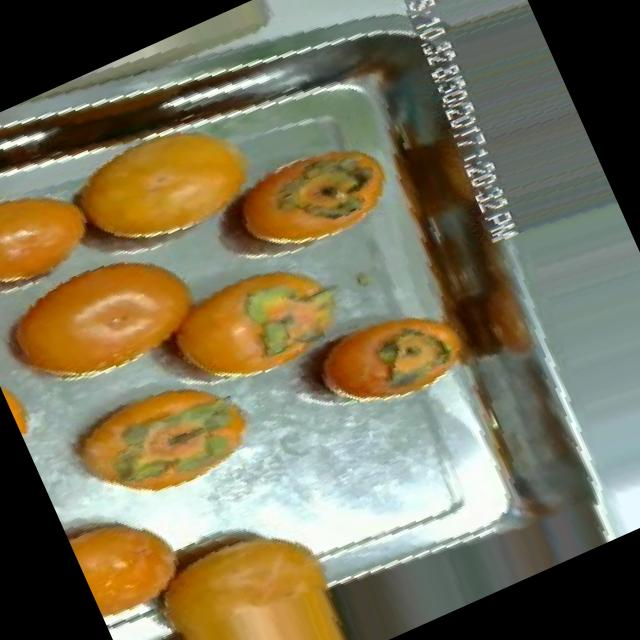Fruit: (40, 338, 278, 530), (198, 107, 412, 284), (286, 273, 480, 442), (58, 474, 206, 632), (0, 352, 56, 457)
